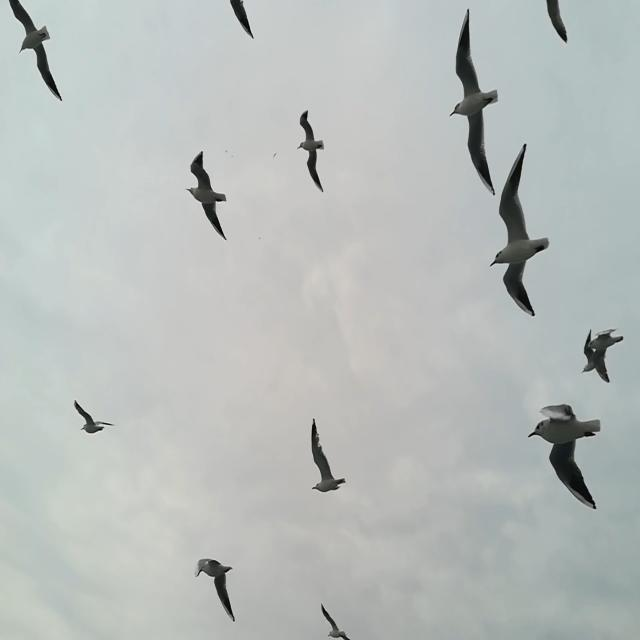bird: (489, 143, 552, 320), (450, 9, 498, 198), (528, 403, 604, 512), (7, 0, 62, 102), (186, 152, 227, 242), (308, 418, 347, 493), (194, 556, 237, 622), (296, 108, 326, 194), (586, 325, 624, 385), (73, 400, 115, 434), (320, 602, 352, 640), (582, 326, 606, 375), (225, 0, 254, 38), (545, 0, 569, 43), (272, 152, 278, 160)
